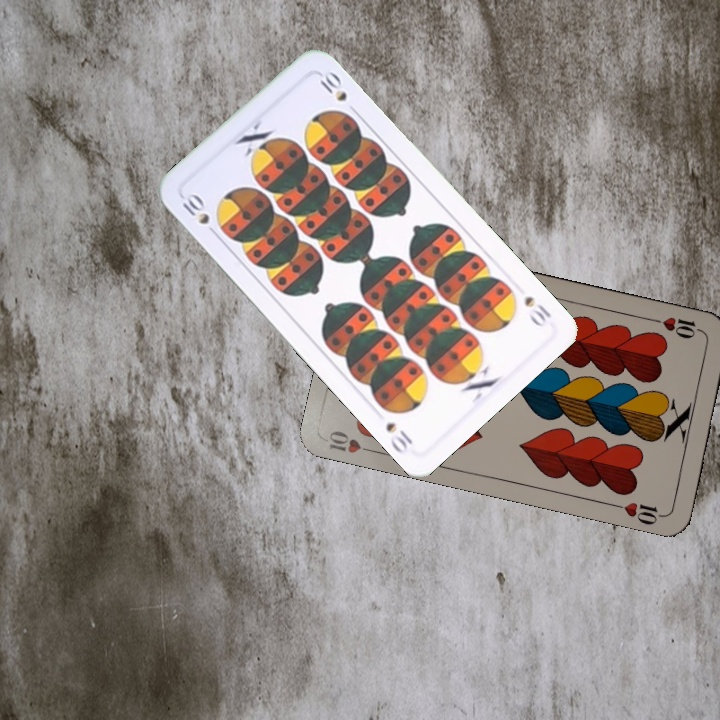H10: (648, 312, 707, 342), (325, 426, 381, 457)
S10: (176, 188, 221, 240), (520, 292, 554, 330)
